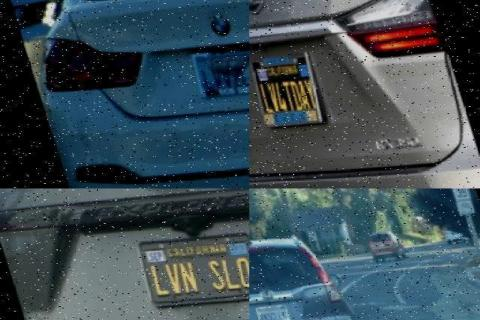LicensePlate: (132, 224, 250, 314), (250, 53, 324, 129), (188, 43, 250, 99), (250, 300, 289, 320), (377, 242, 384, 246)
